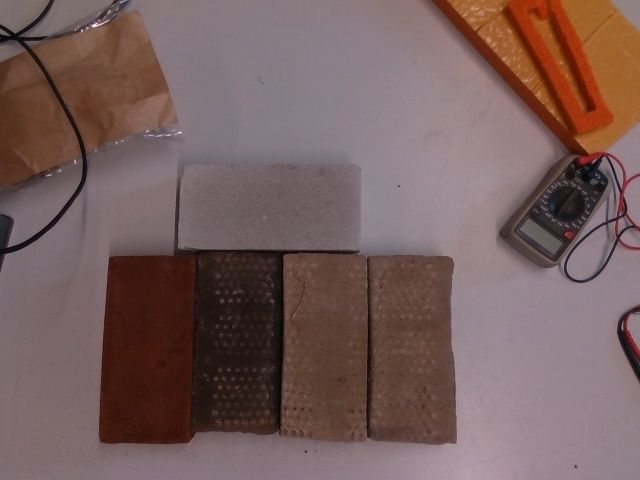brick: (104, 254, 191, 440), (180, 161, 355, 247), (285, 253, 365, 434), (373, 256, 447, 438), (201, 254, 271, 429)
